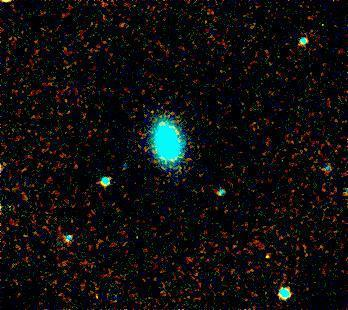star: (253, 246, 283, 276)
